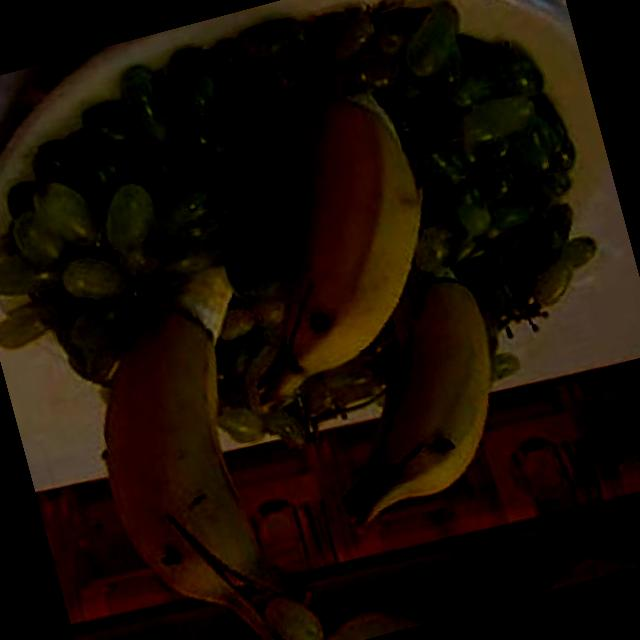Banana: (48, 250, 333, 640), (181, 74, 470, 416), (290, 254, 530, 532)
